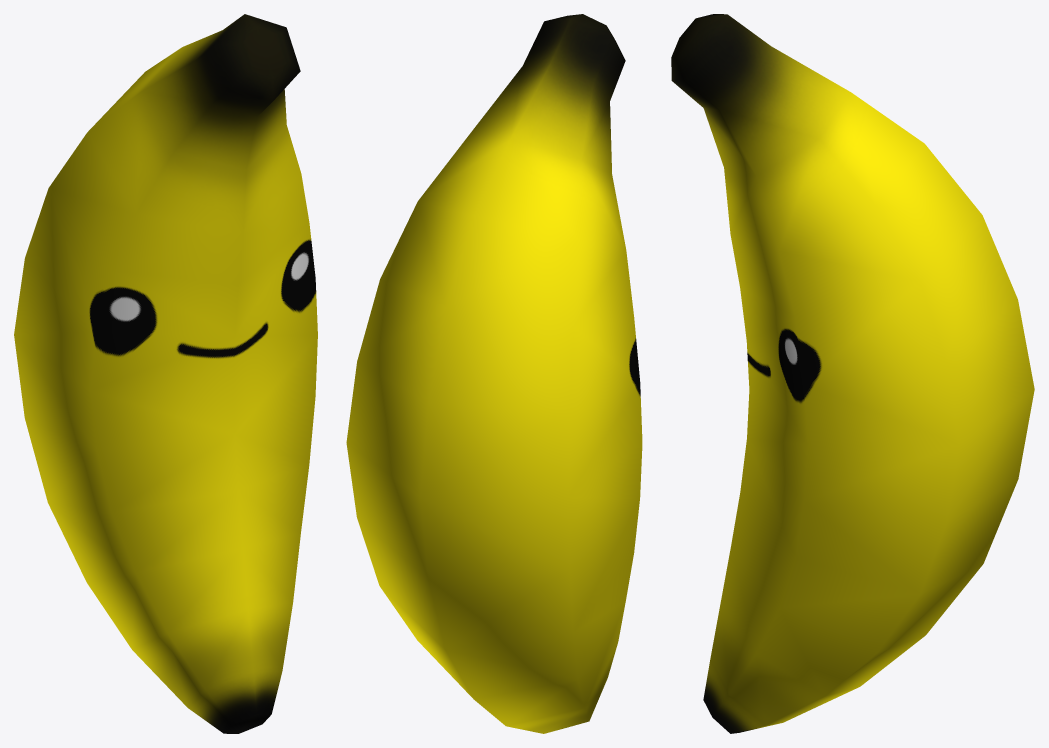
The model's file is banana.FBX.
3 views of the same model, side by side, from view 1: azimuth 30°, elevation 25°; view 2: azimuth 150°, elevation 25°; view 3: azimuth 270°, elevation 25° (orthographic). The views are drawn at different scales.
Parts seen in each view (by area): view 1: Cylinder001; view 2: Cylinder001; view 3: Cylinder001.
Boxes of the visible parts, bbox=[...] form: Cylinder001: bbox=[14, 14, 317, 733]; Cylinder001: bbox=[346, 14, 642, 733]; Cylinder001: bbox=[671, 14, 1034, 733].
Size of the model in its own units: 35.96 by 109 by 50.02.
